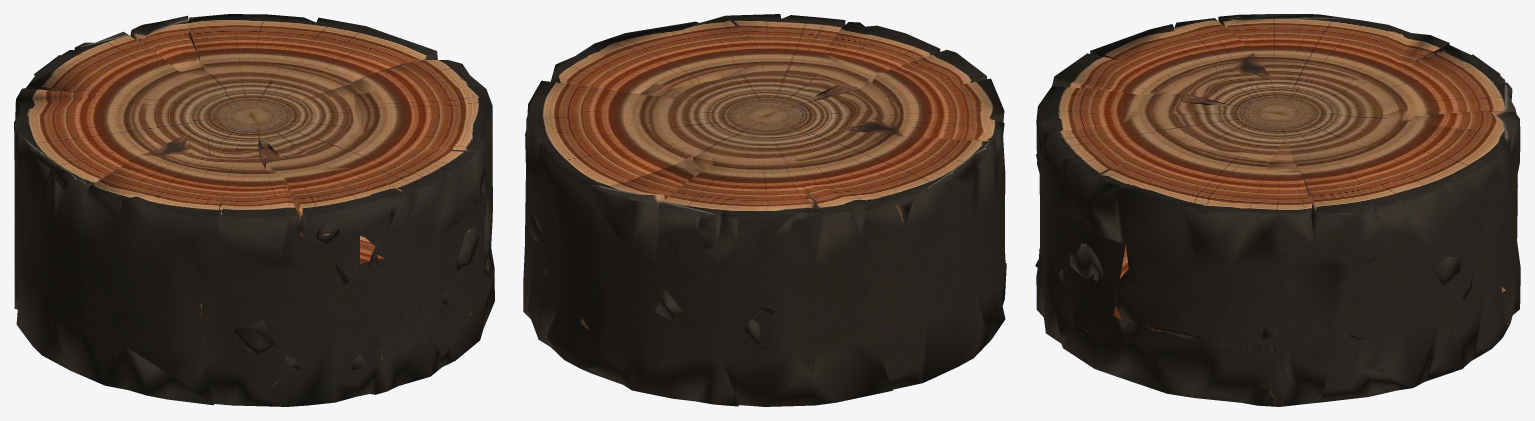
File: chopping_block.glb
3 views of the same model, side by side, from view 1: azimuth 30°, elevation 25°; view 2: azimuth 150°, elevation 25°; view 3: azimuth 270°, elevation 25° (orthographic).
Bounding box in the file's own units: 0.9566 × 0.4175 × 0.955.
1 material, 1 textured.
